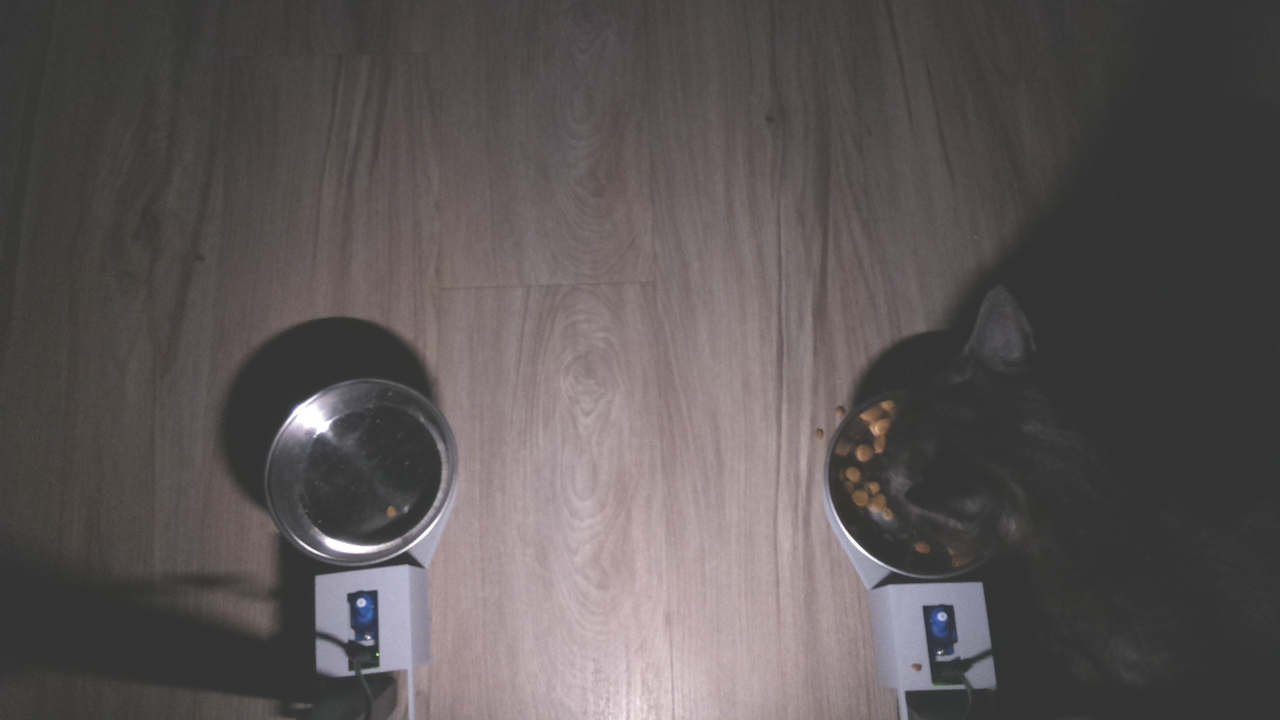open_bowl: (257, 373, 463, 573)
saki_eating: (820, 280, 1071, 587)
